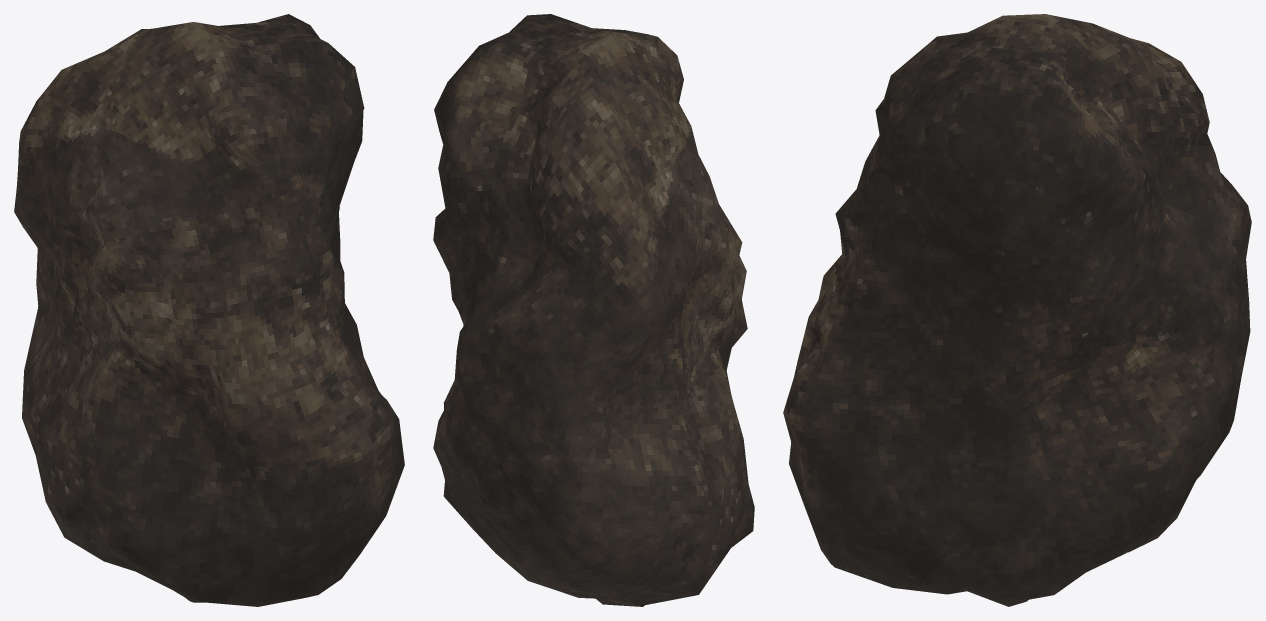
File: SM_RP2_Rock_4m_4.glb
3 renders of one model, left to right at view 1: azimuth 30°, elevation 25°; view 2: azimuth 150°, elevation 25°; view 3: azimuth 270°, elevation 25°, orthographic. The views are drawn at different scales.
Parts seen in each view (by area): view 1: SM_RP2_Rock_4m_4; view 2: SM_RP2_Rock_4m_4; view 3: SM_RP2_Rock_4m_4.
Part boxes in pixels (x1,y1,x2,y2): SM_RP2_Rock_4m_4: [14, 14, 404, 606]; SM_RP2_Rock_4m_4: [433, 14, 754, 606]; SM_RP2_Rock_4m_4: [783, 14, 1251, 606].
Size of the model in its own units: 3.83 by 7.19 by 5.16.
Materials: 1 (1 with a texture image).
